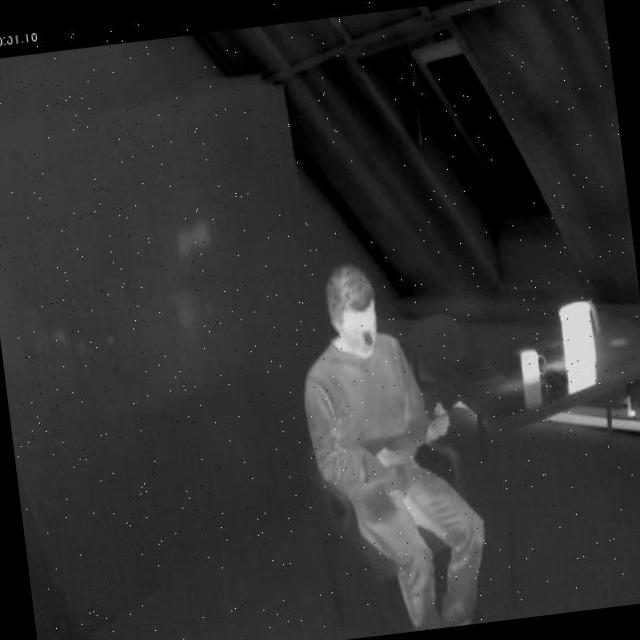person: (285, 245, 505, 640)
